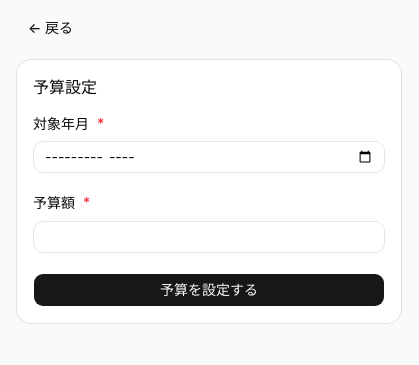
Scenario: AddBudget › 保存に失敗した場合はエラー表示されること
The width and height of the screenshot is (419, 365).
Type "2026-04" into the field labelled "対象年月 *" at (209, 157), box [33,141,385,173]
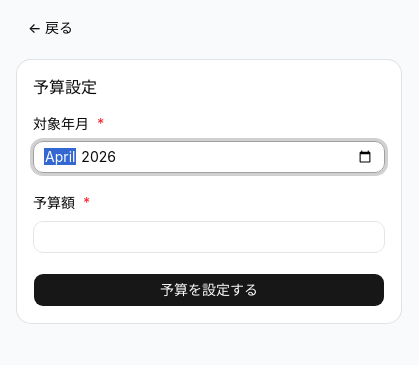
Type "10000" into the field labelled "予算額 *" at (209, 236), box [33,220,385,252]
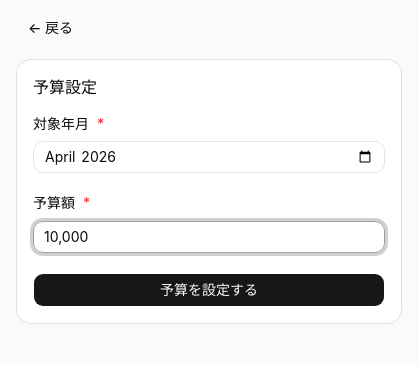
Click the button "予算を設定する" at (209, 290), box [33,272,385,306]
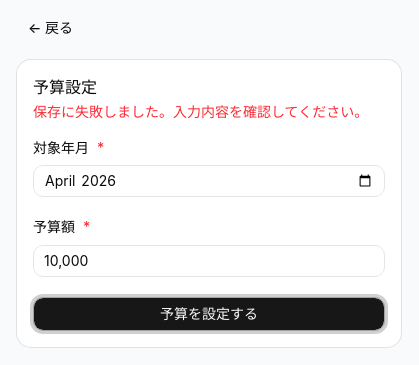
Check: the text "保存に失敗しました。入力内容を確認してください。" is shown, box [33,102,385,122]
